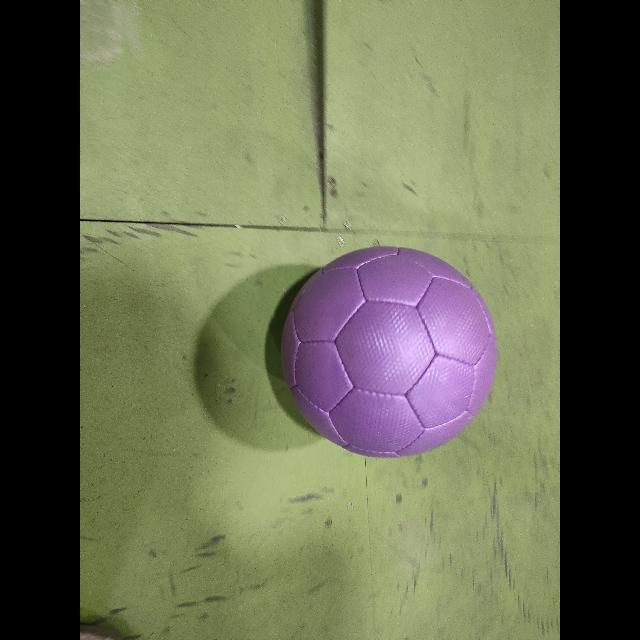P: (282, 247, 496, 457)
